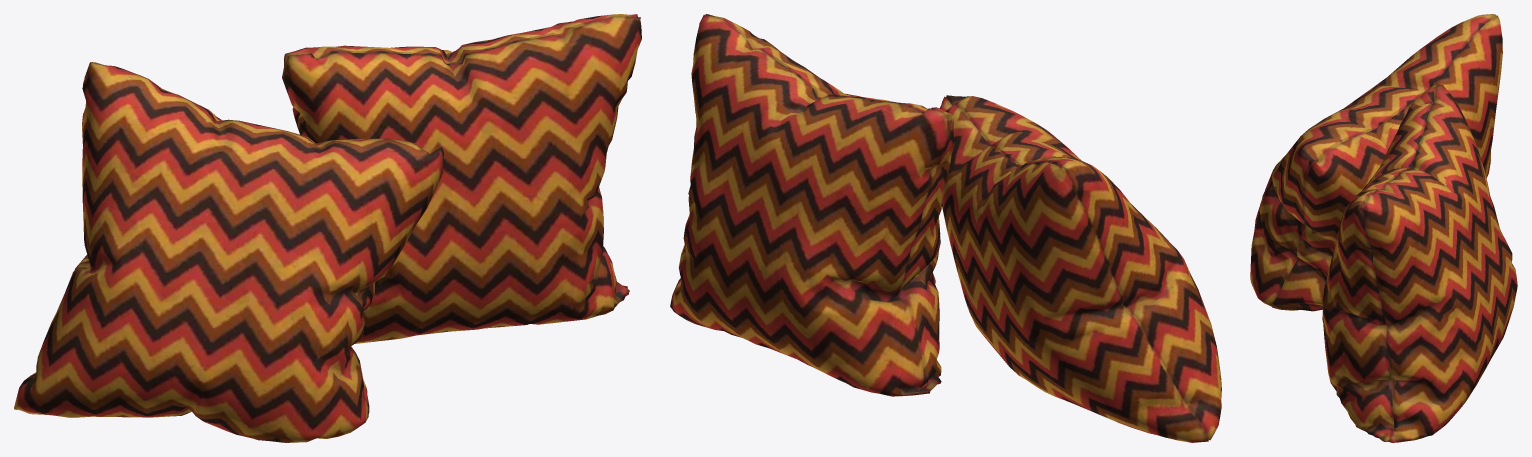
Rendered from throw_pillows_01.glb.
3 views of the same model, side by side, from view 1: azimuth 30°, elevation 25°; view 2: azimuth 150°, elevation 25°; view 3: azimuth 270°, elevation 25° (orthographic). The views are drawn at different scales.
Visible parts, largest first — view 1: throw_pillows_01_pillow02; view 2: throw_pillows_01_pillow02; view 3: throw_pillows_01_pillow02.
Boxes of the visible parts, x1,y1,x2,y2 form: throw_pillows_01_pillow02: (14, 14, 641, 442); throw_pillows_01_pillow02: (670, 14, 1221, 442); throw_pillows_01_pillow02: (1250, 14, 1517, 442).
Size of the model in its own units: 0.9401 by 0.4502 by 0.4519.
Materials: 1 (1 with a texture image).
